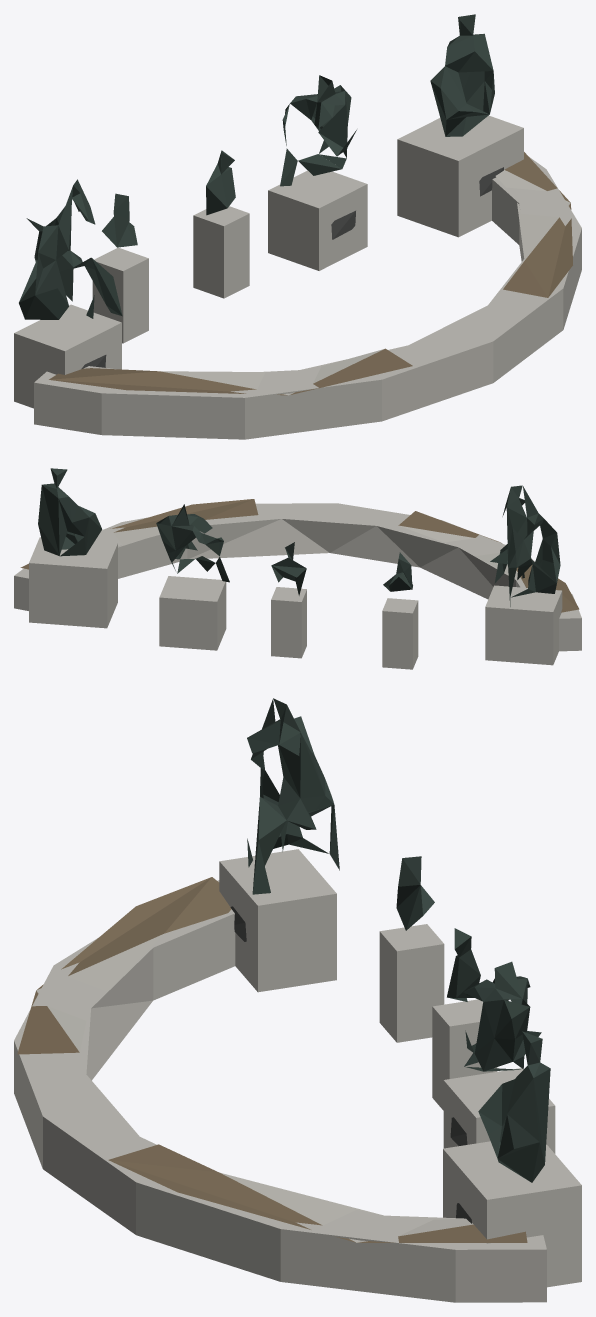
File: johnny-jordaan-groep.lod2.glb
3 renders of one model, top to bottom at view 1: azimuth 30°, elevation 25°; view 2: azimuth 150°, elevation 25°; view 3: azimuth 270°, elevation 25°, orthographic. The views are drawn at different scales.
Parts seen in each view (by area): view 1: lod2; view 2: lod2; view 3: lod2.
Boxes of the visible parts, x1=… form: lod2: x1=14, y1=14, x2=581, y2=439; lod2: x1=14, y1=468, x2=581, y2=669; lod2: x1=14, y1=698, x2=581, y2=1302.
Size of the model in its own units: 7.85 by 2.63 by 5.06.
